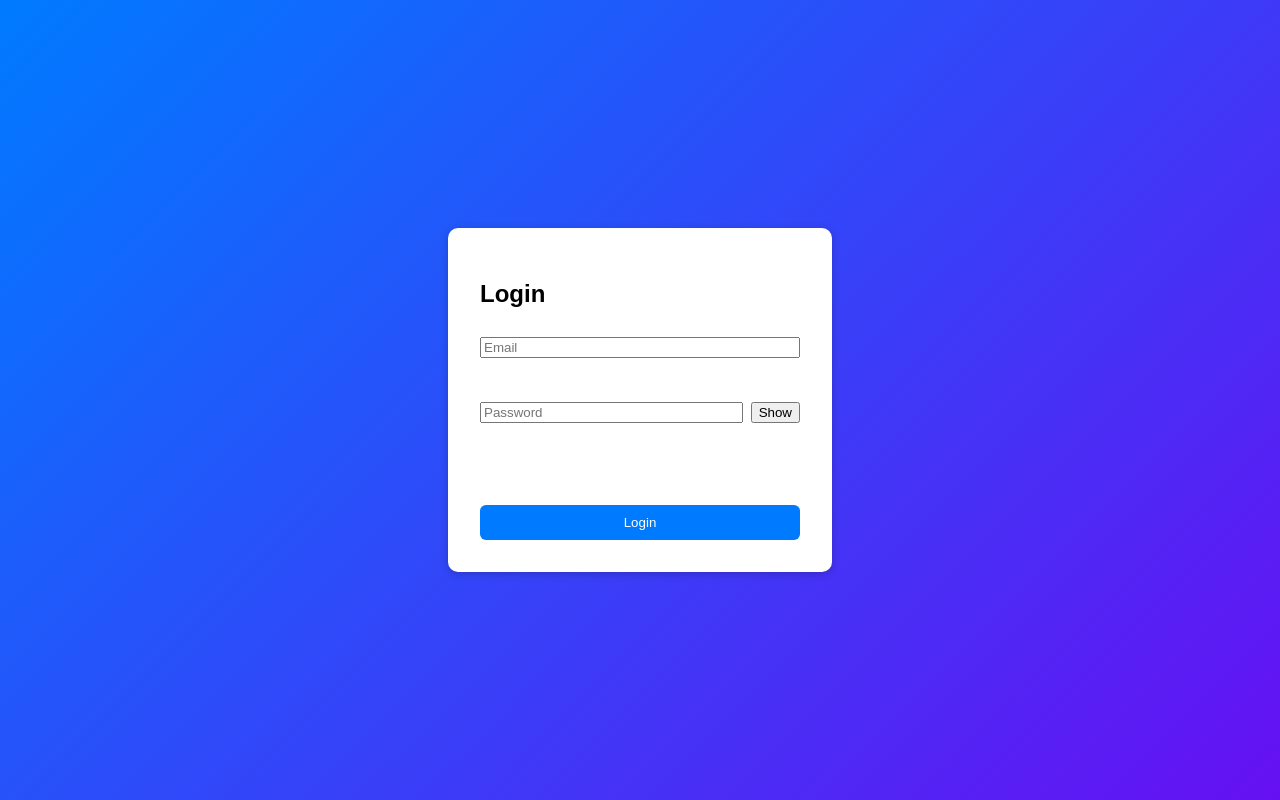
Test case: Login básico › marca email inválido
Type "no-es-email" into the field with test id "email-input" at (640, 348), box [480, 337, 800, 358]
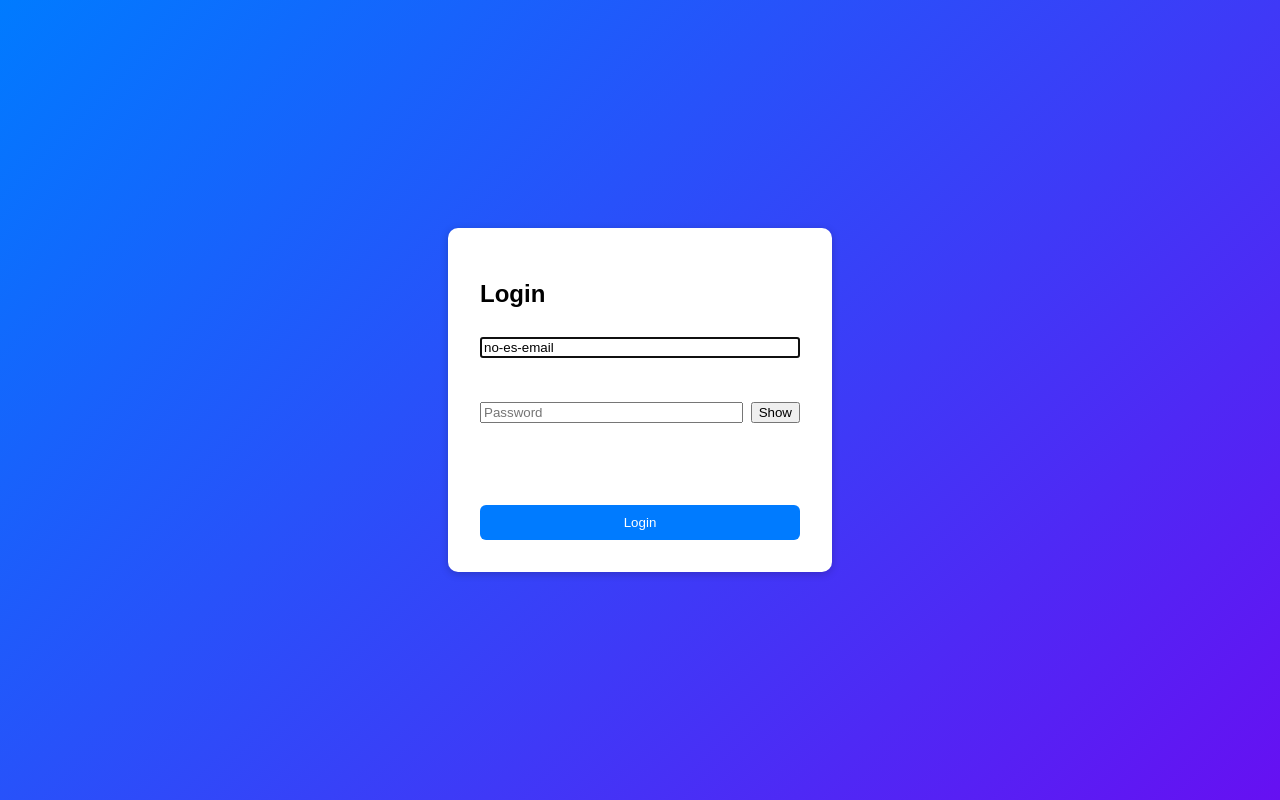
Type "algo" into the password field with test id "password-input" at (612, 413), box [480, 402, 743, 423]
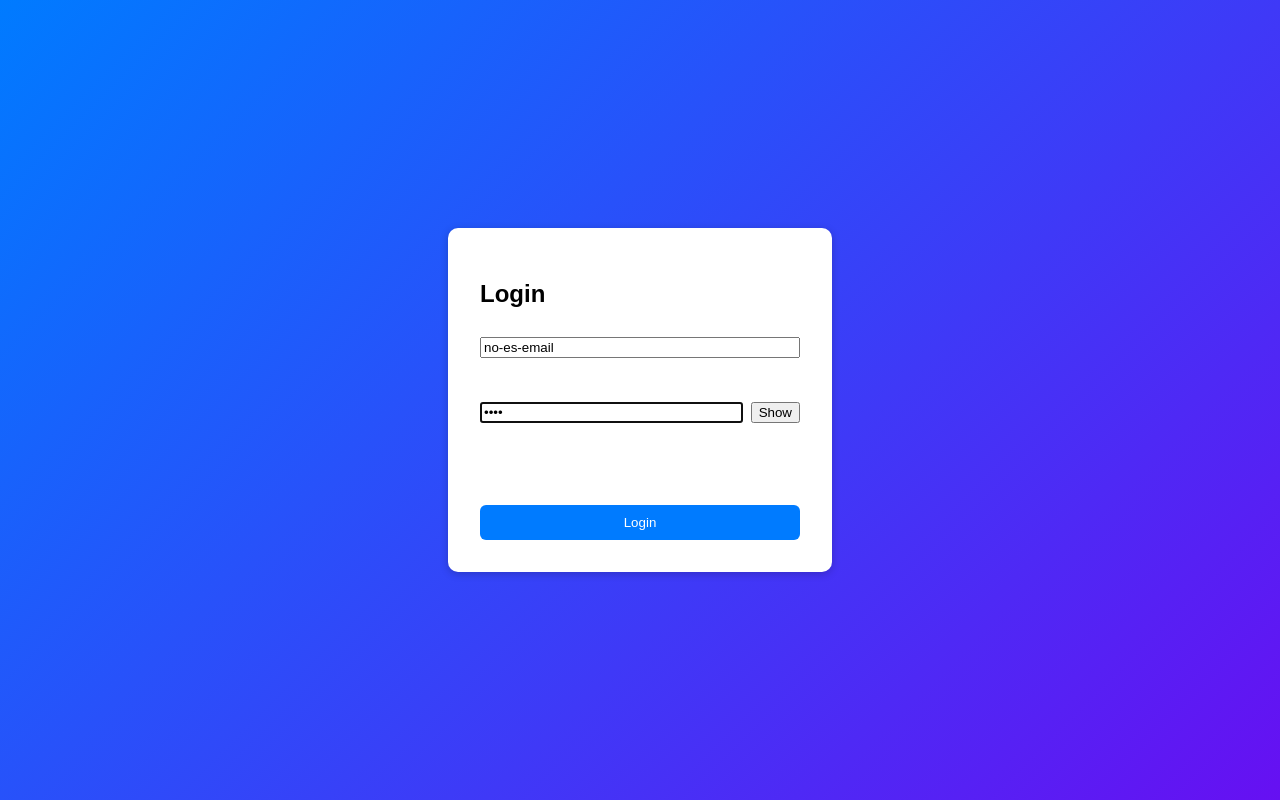
Click the button with test id "submit-button" at (640, 523), box [480, 505, 800, 540]
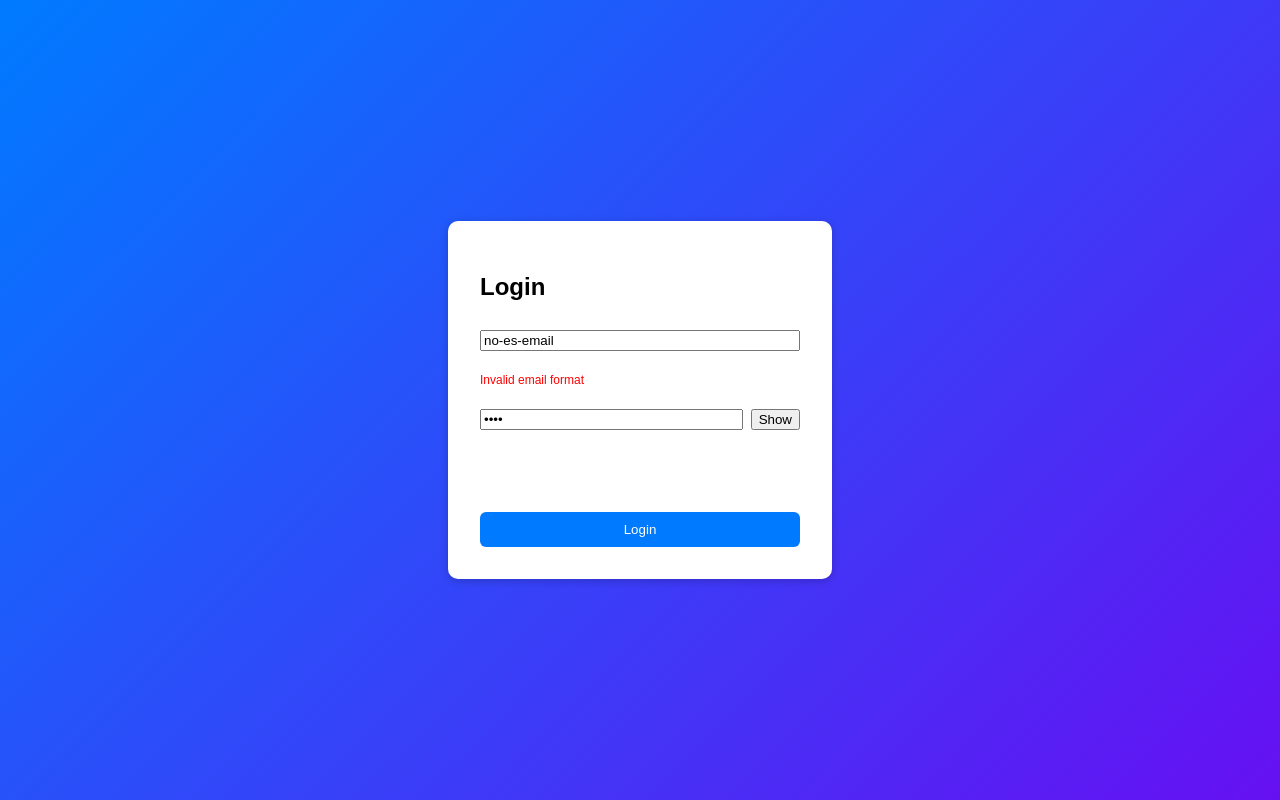
expect the text with test id "email-error" shows "email": met, box [480, 373, 584, 387]
